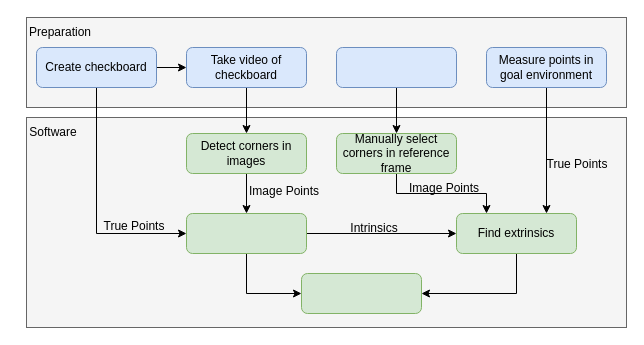
Image size: 644x345. Some labels were removed from this diagram. The shapes that lost their labels are listed below. From the top down, each one's box as (x1, y1, x2, y2) in pixels, then its label:
(336, 46, 456, 88): Take video in goal environment
(186, 212, 306, 254): Find intrinsics
(300, 272, 422, 314): Find camera projection-matrix
